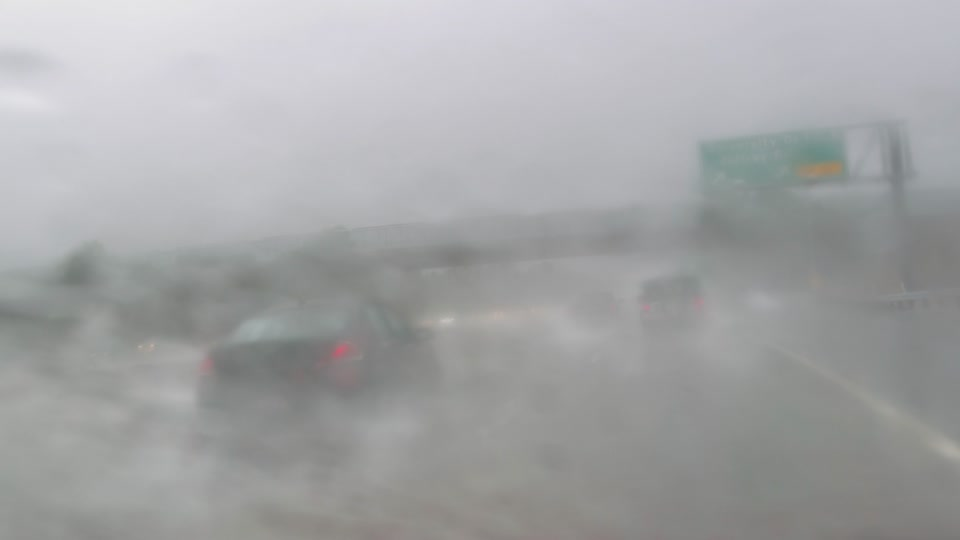car: (190, 304, 415, 410), (636, 276, 702, 329), (565, 289, 613, 327)
